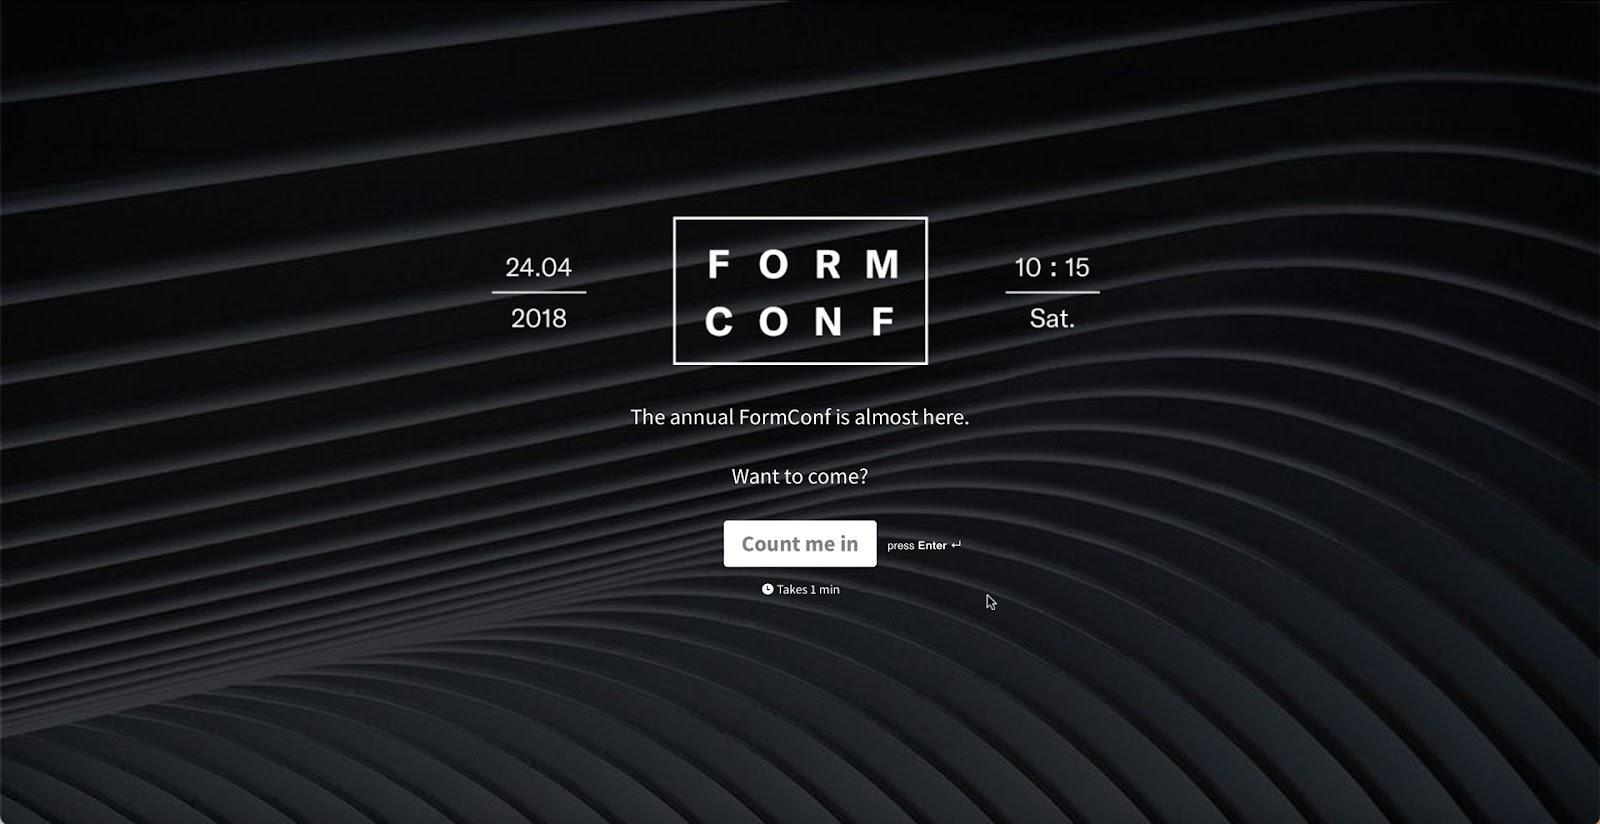button: (725, 522, 878, 568)
icon: (952, 538, 967, 555), (761, 583, 776, 596)
label: (778, 583, 843, 599), (890, 540, 947, 553)
